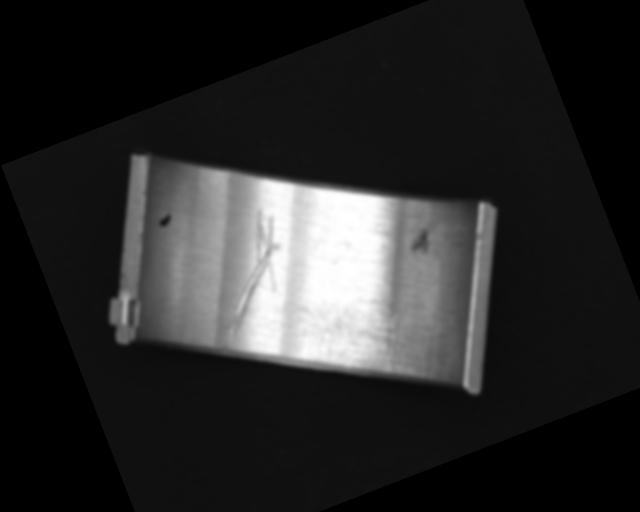blot: (154, 211, 174, 229)
bruise: (406, 227, 436, 257)
nick: (180, 202, 314, 351)
scratch: (307, 288, 431, 407)
